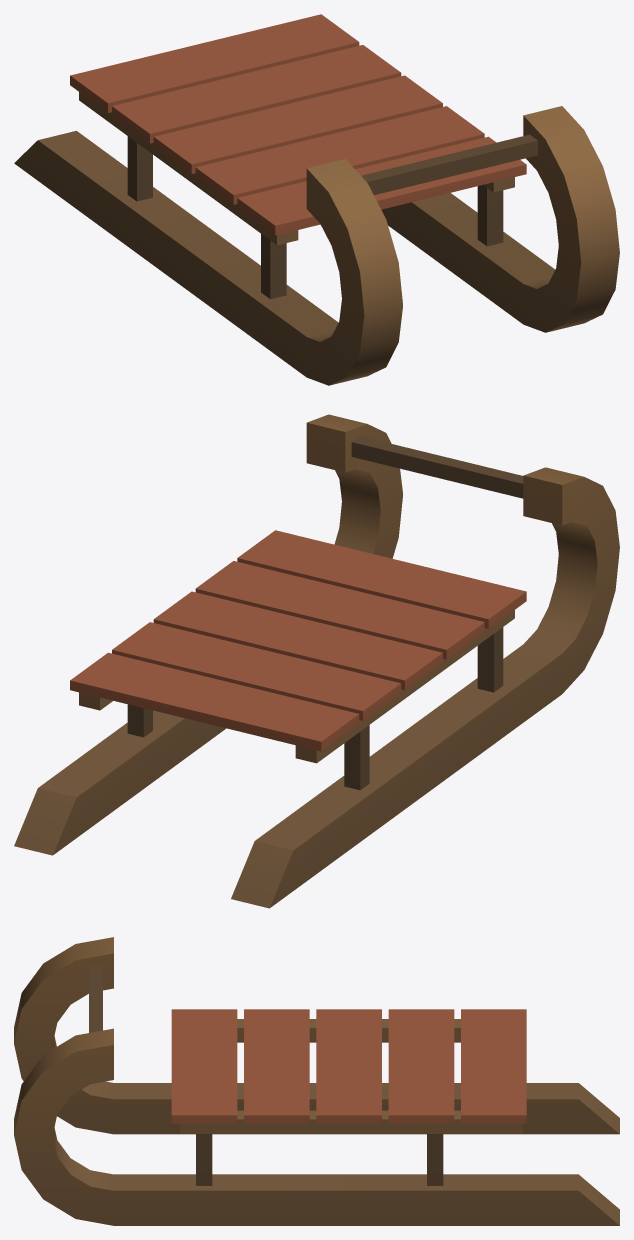
Rendered from Sled_01.glb.
3 views of the same model, one above another, from view 1: azimuth 30°, elevation 25°; view 2: azimuth 150°, elevation 25°; view 3: azimuth 270°, elevation 25° (orthographic). The views are drawn at different scales.
Visible parts, largest first — view 1: Sled_01; view 2: Sled_01; view 3: Sled_01.
Boxes of the visible parts, left/top/right/bottom form: Sled_01: left=14, top=14, right=619, bottom=385; Sled_01: left=14, top=414, right=619, bottom=908; Sled_01: left=14, top=937, right=619, bottom=1225.
Bounding box in the file's own units: 0.5328 × 0.4169 × 1.27.
1 material, 1 textured.
